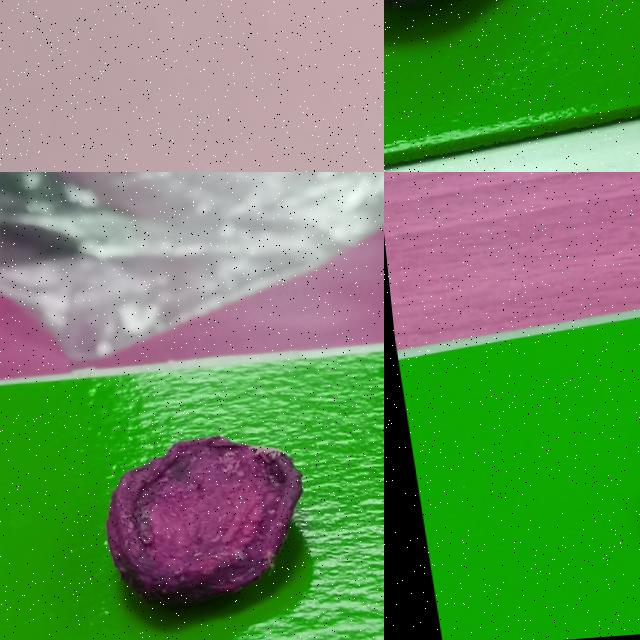Agglomerated_cocoabeans: (562, 347, 639, 639)
Fine_cocoabeans: (384, 0, 592, 72)
Flat_cocoabeans: (13, 387, 367, 639)
